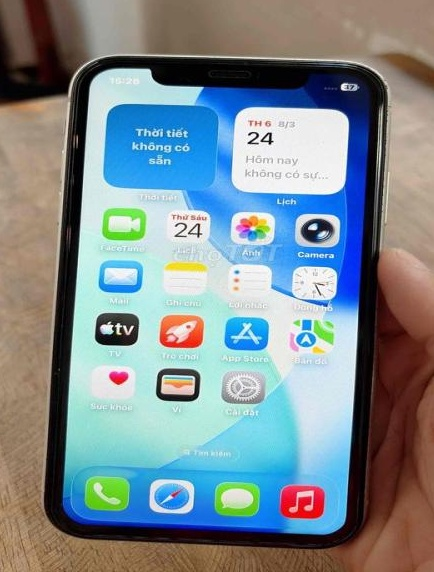scratch: (227, 56, 255, 74)
